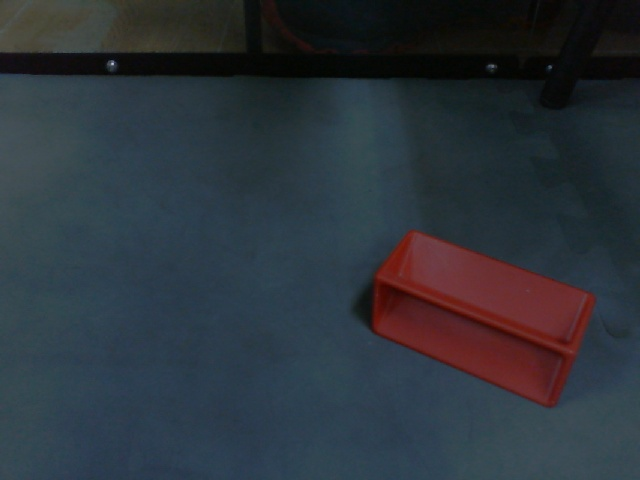RedSample: (368, 227, 600, 415)
